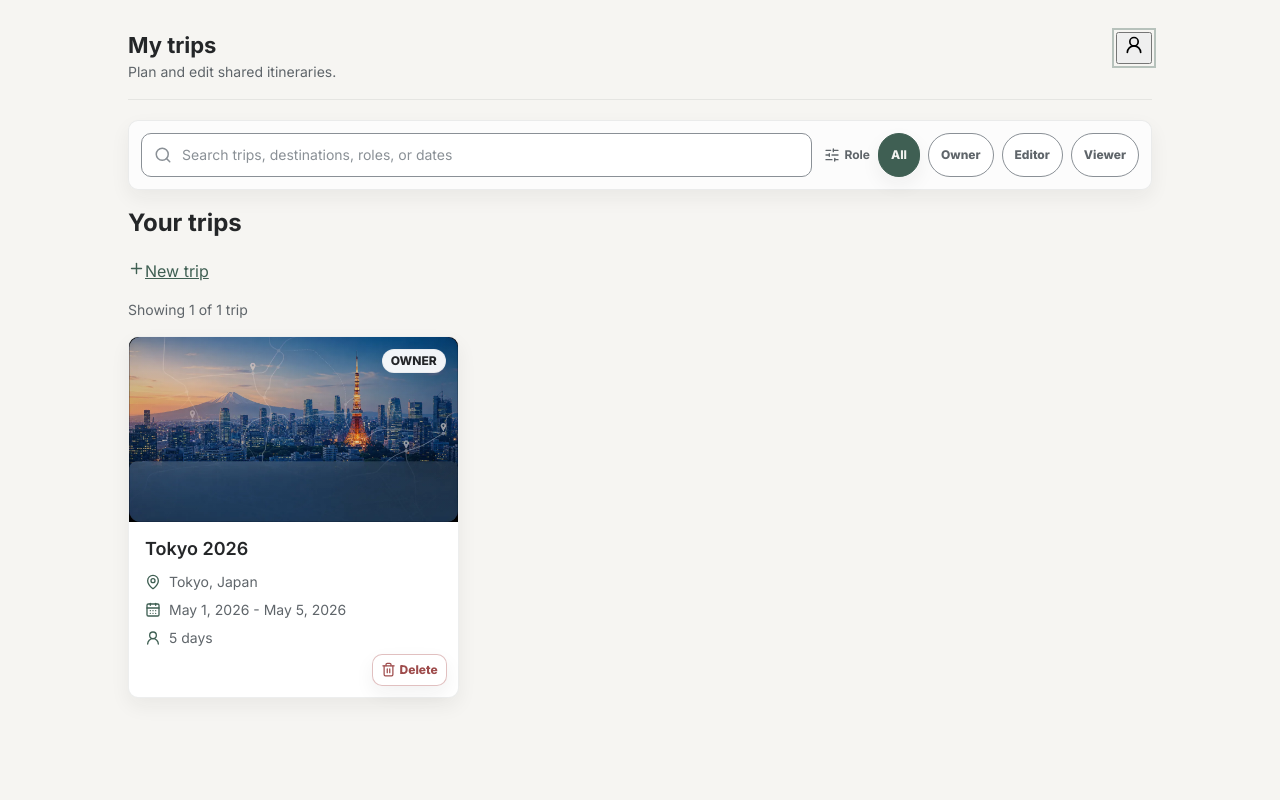
Test: <TripsPage> › uses an accessible mobile account menu and restores focus after Escape
This screenshot has width=1280, height=800.
Expected: the link with aria-label "open tokyo 2026" is shown, [128,336,459,698]
Expected: the button "account" is not shown
Press Enter
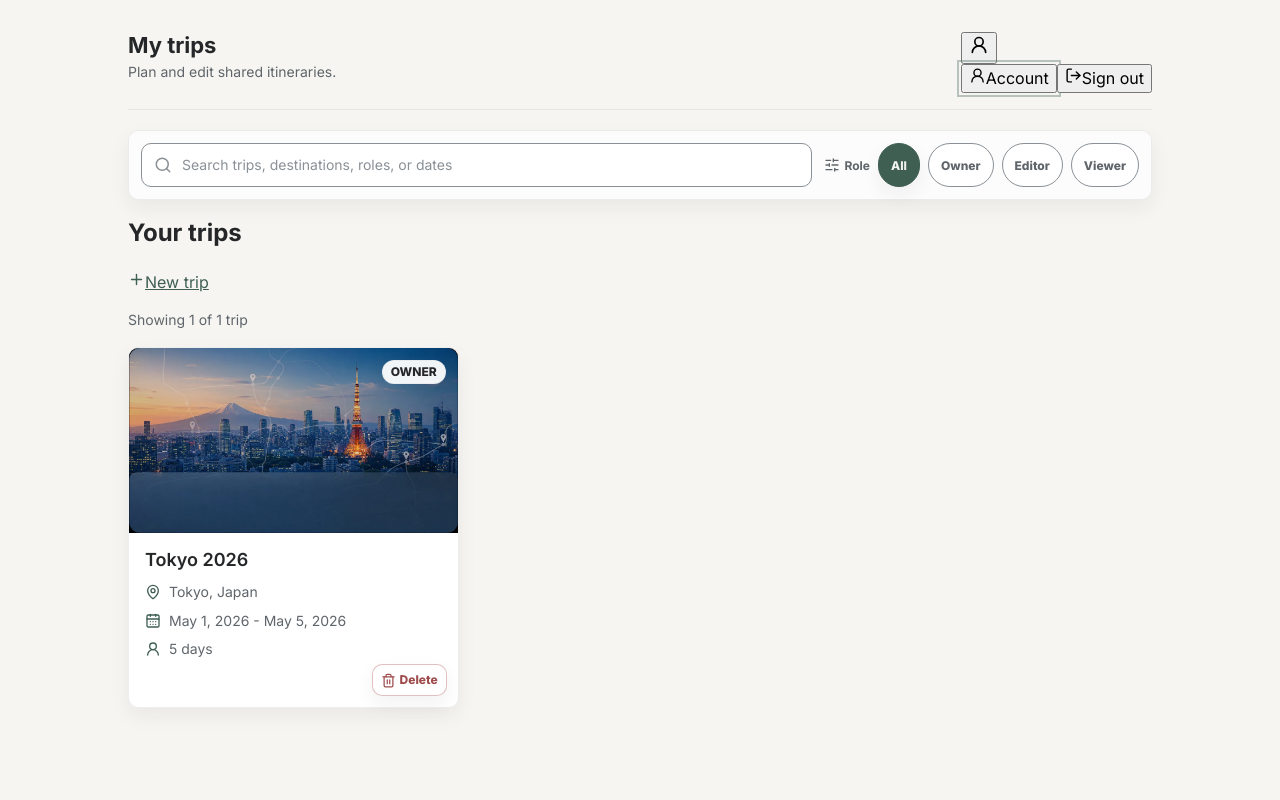
Result: the button named "open account menu" is expanded at [961,32,997,64]
Press Escape
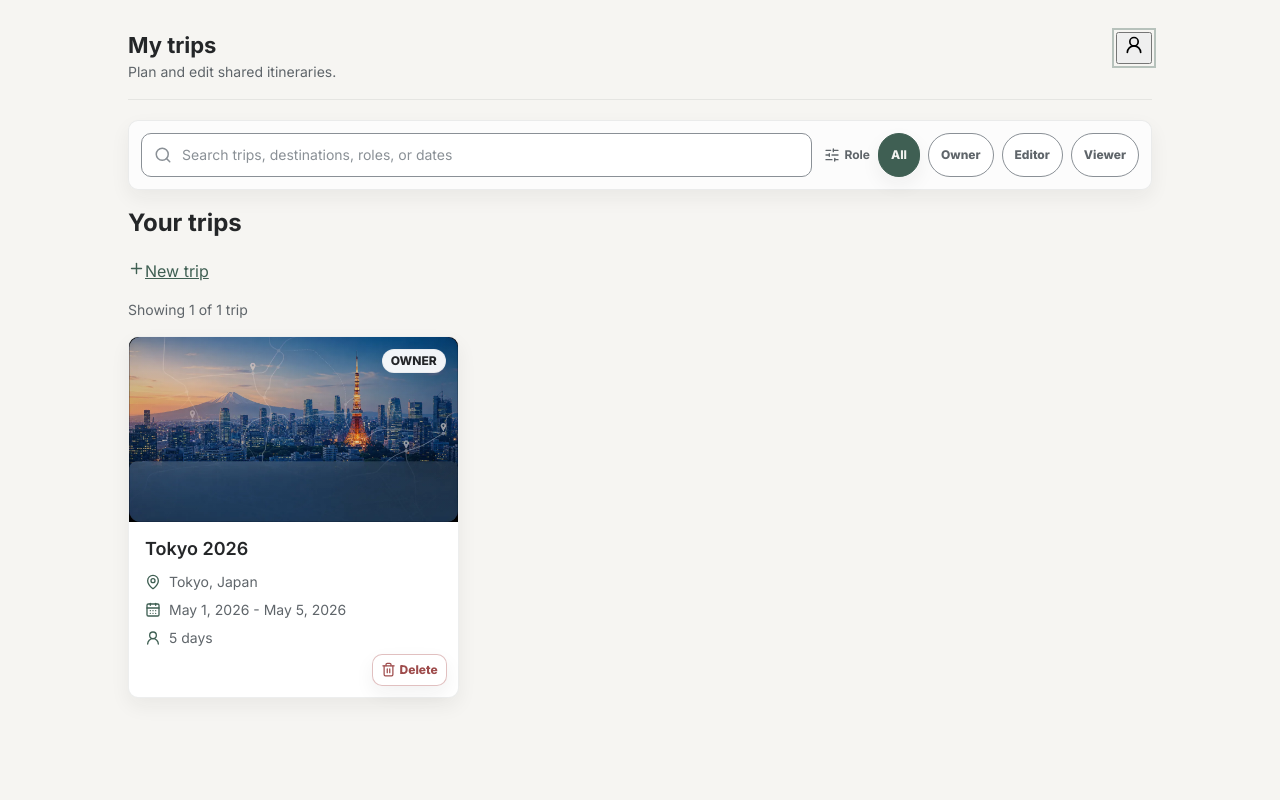
Click the button named "open account menu".
click(1134, 48)  # box [1116,32,1152,64]
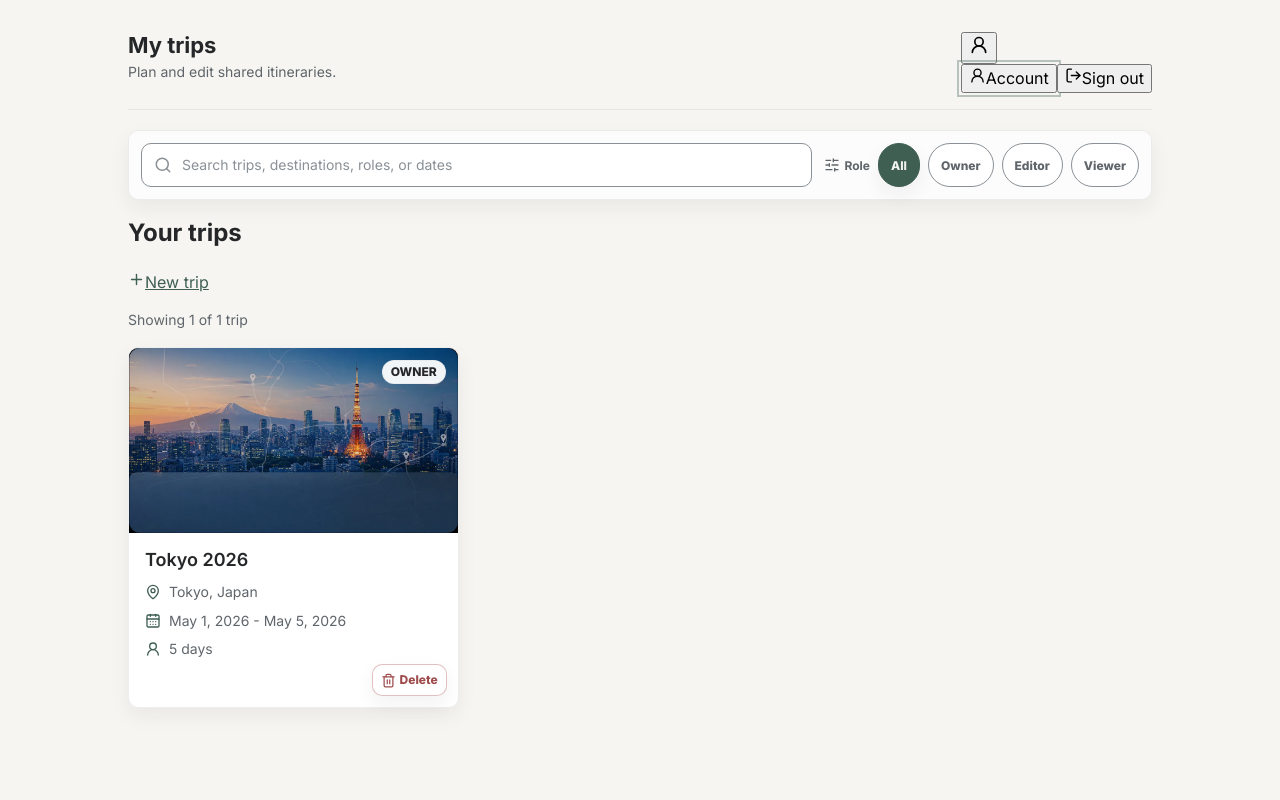
Click the menu item "Account".
click(1009, 79)  # box [961,64,1057,93]
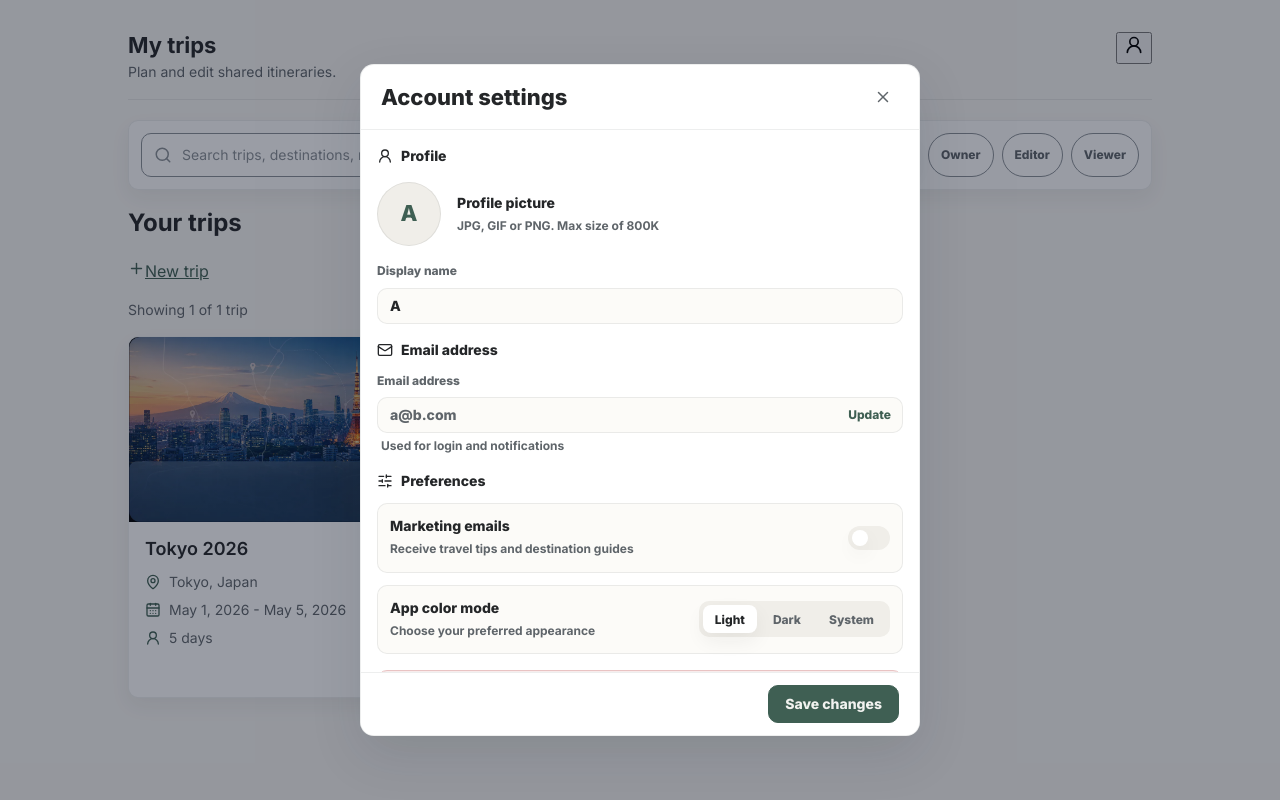
Result: the dialog "Account settings" is shown at [360,64,920,736]
